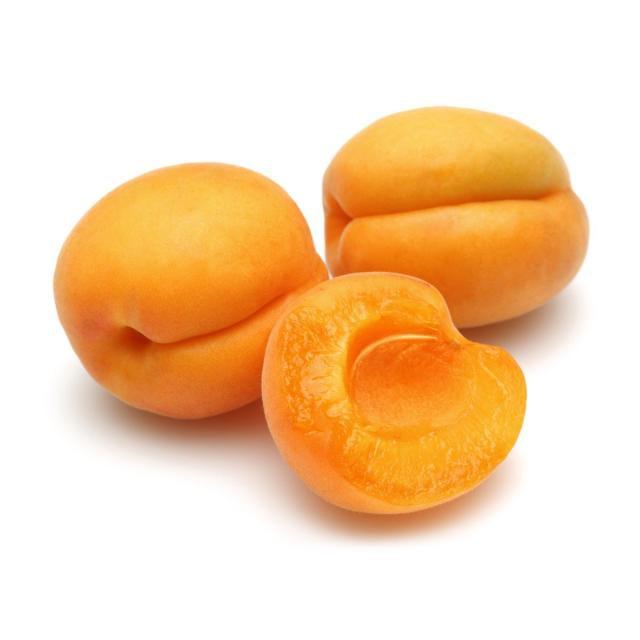Apricot: (56, 158, 323, 453), (263, 270, 525, 522), (330, 108, 602, 336)
